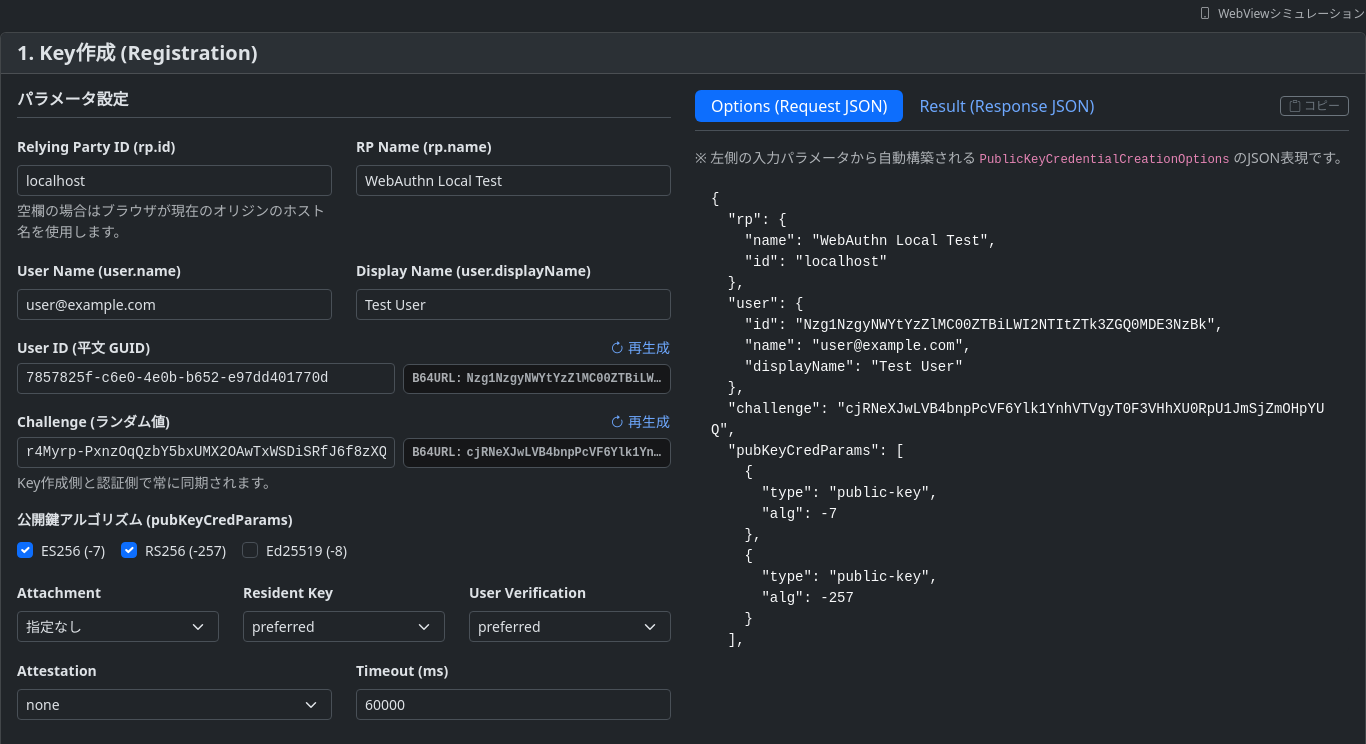
it: DevelopFido.vue › handles WebView environment and self-responsibility checkbox to unlock execution
This screenshot has width=1366, height=744.
シミュレーションをONにする
Click the button with id "btnToggleSimulateWebview" at (1282, 14), box [1198, 4, 1365, 24]
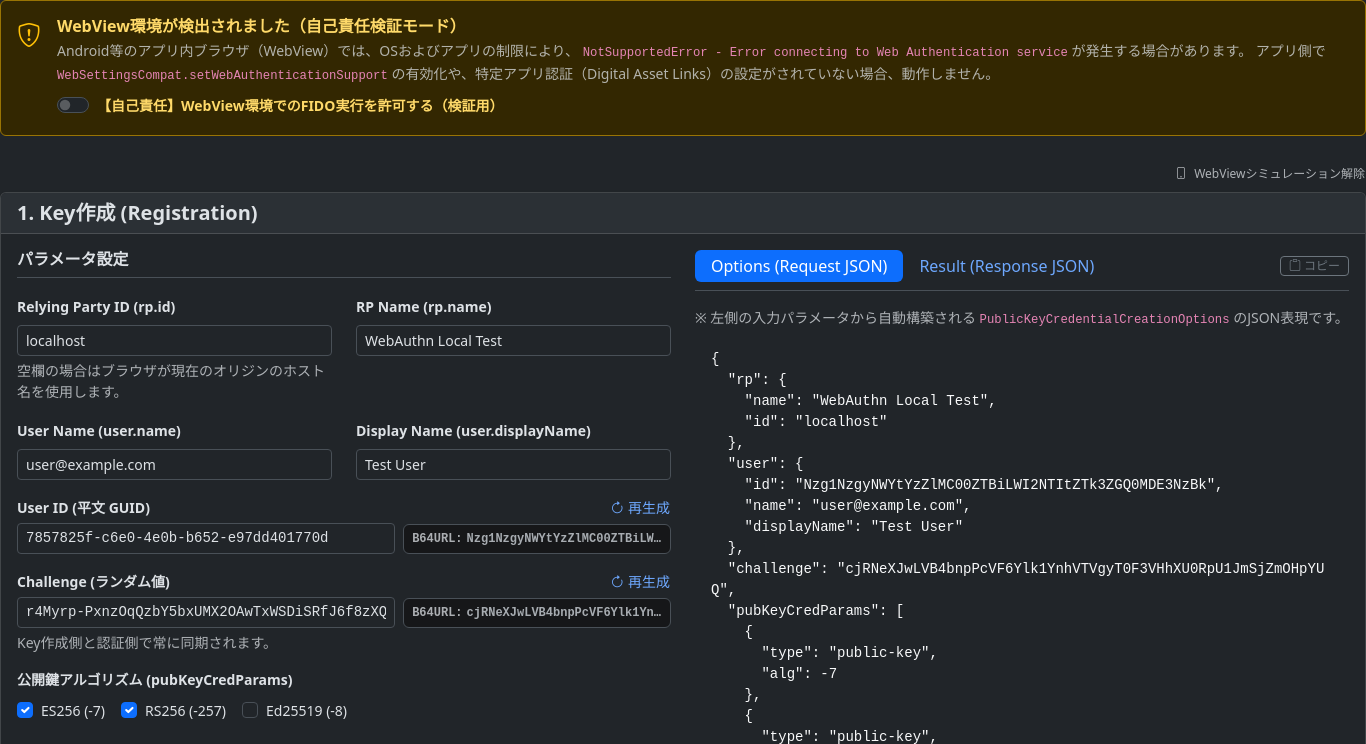
Expected: the message with id "webviewWarningAlert" is shown, [0, 0, 1365, 136]
Expected: the message with id "webviewWarningAlert" shows "WebView環境が検出されました", [57, 15, 466, 37]
Expected: the checkbox with id "allowWebViewExecution" is shown
Click the checkbox with id "allowWebViewExecution" at (73, 105), box [57, 97, 89, 113]
(page scrolled)
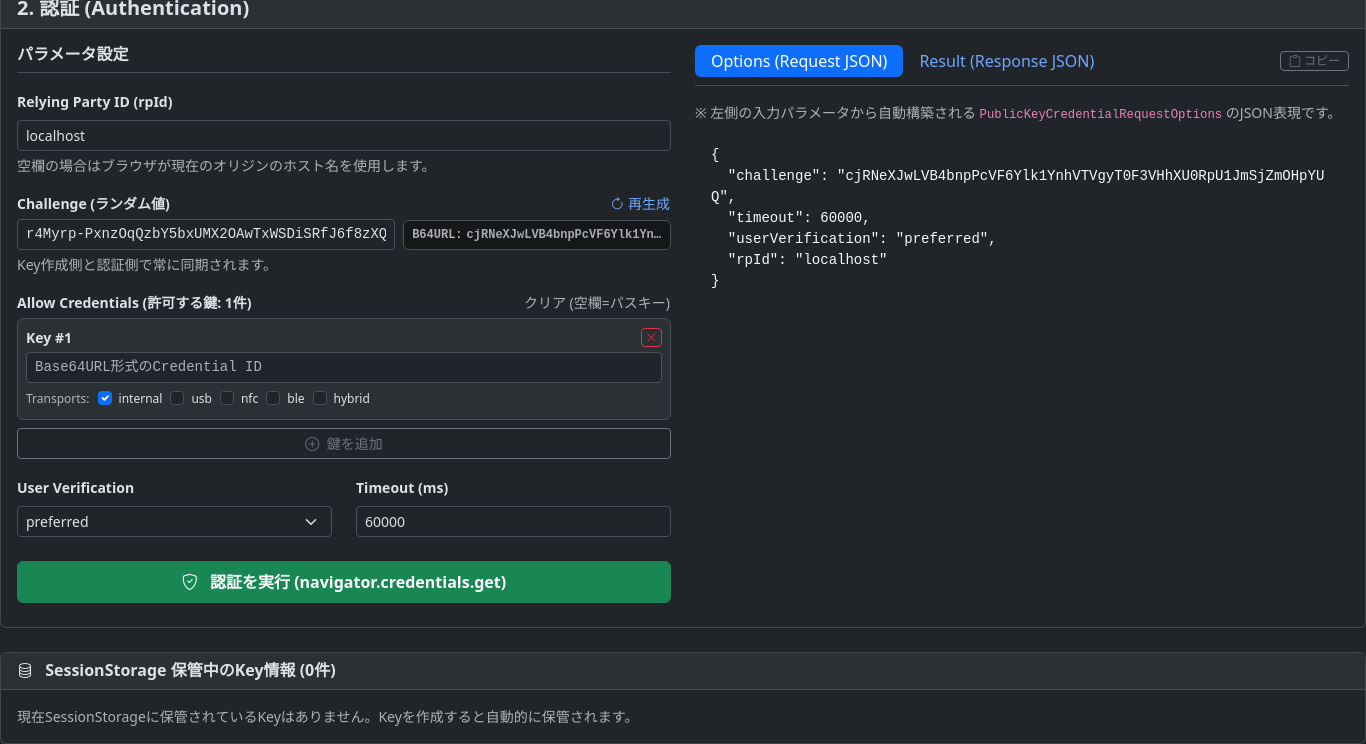
Expected: the button with id "btnGetCredential" is enabled, [17, 561, 671, 603]
